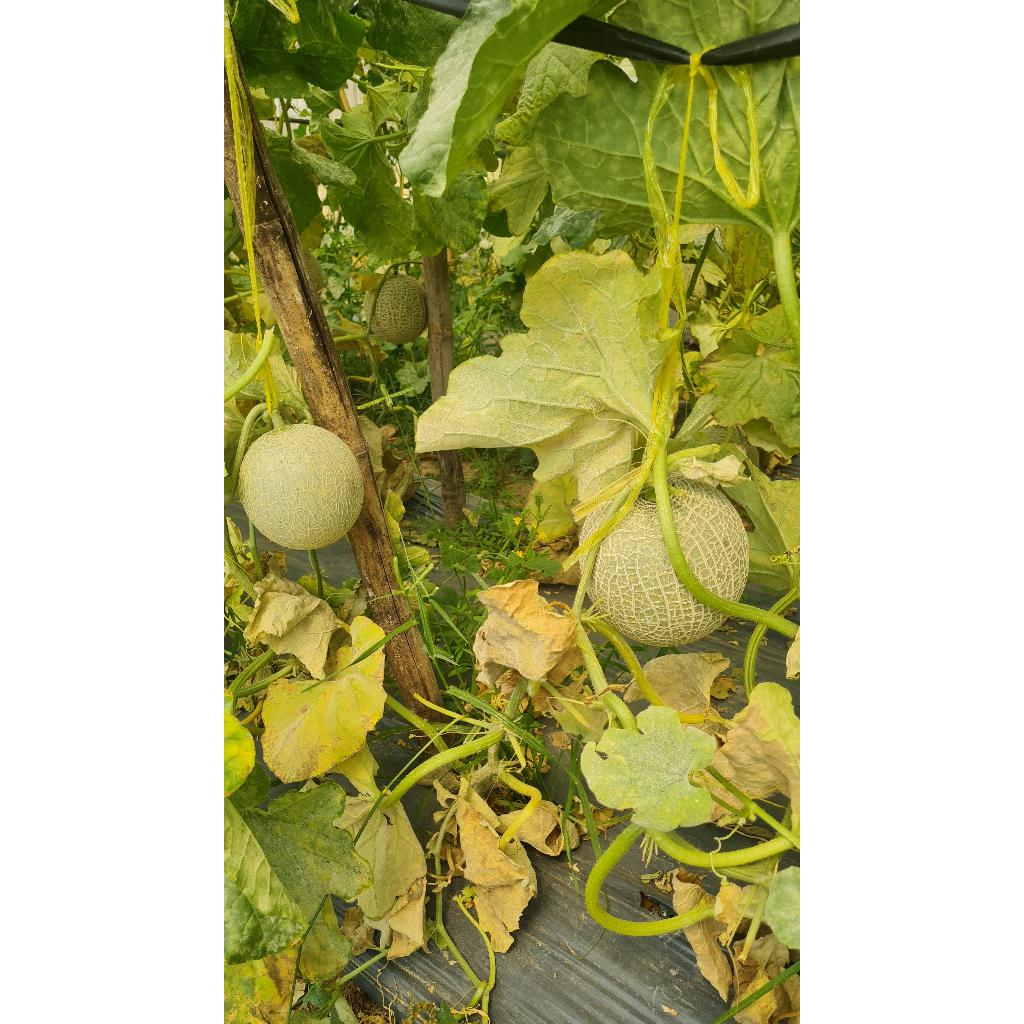melon: (588, 496, 726, 646), (240, 424, 364, 550), (668, 474, 748, 602)
